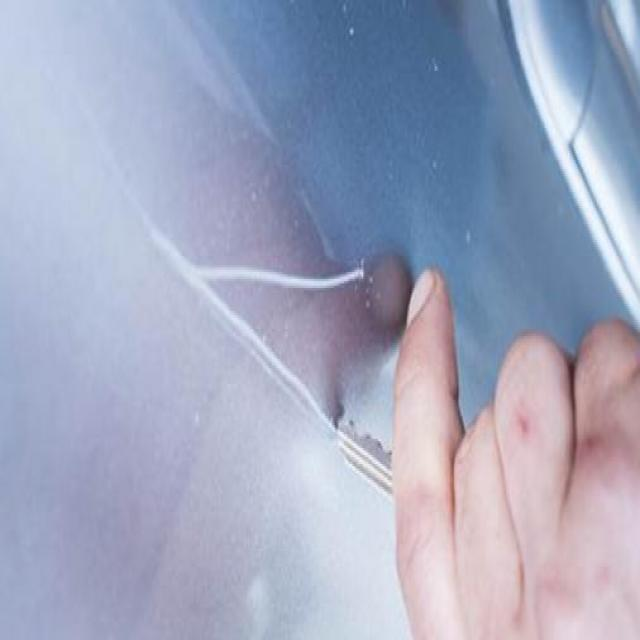scratch: (180, 256, 374, 300)
